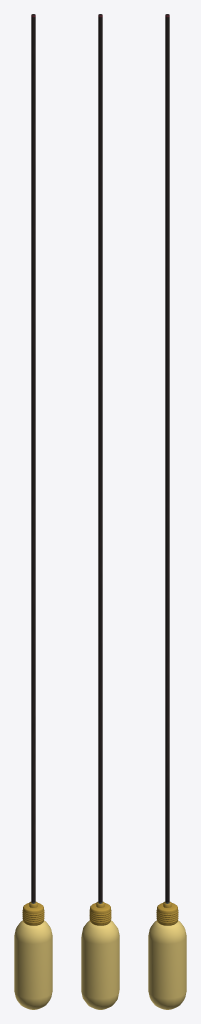
The model's file is pendantLamp_2.fbx.
3 views of the same model, side by side, from view 1: azimuth 90°, elevation 25°; view 2: azimuth 210°, elevation 25°; view 3: azimuth 270°, elevation 25° (orthographic).
Visible parts, largest first — view 1: pendantLamp_2; view 2: pendantLamp_2; view 3: pendantLamp_2.
Boxes of the visible parts, left/top/right/bottom form: pendantLamp_2: left=14, top=14, right=52, bottom=1009; pendantLamp_2: left=81, top=14, right=119, bottom=1009; pendantLamp_2: left=148, top=14, right=186, bottom=1009.
Bounding box in the file's own units: 8.86 × 252 × 8.86.
